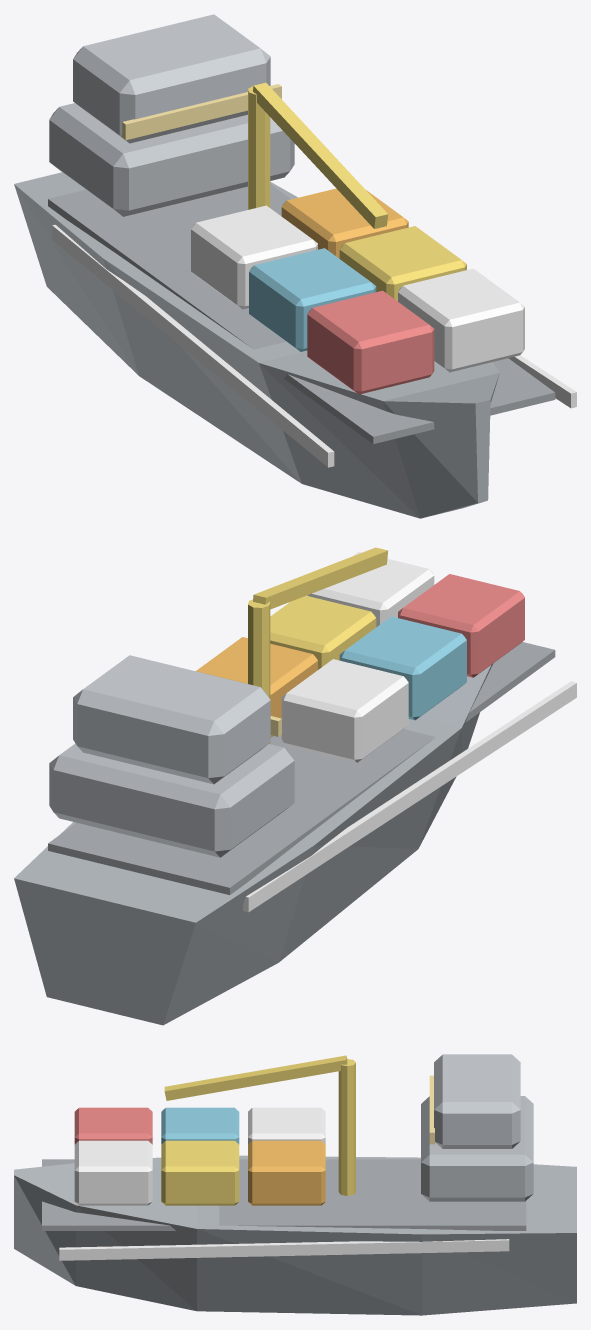
File: logship.glb
3 views of the same model, one above another, from view 1: azimuth 30°, elevation 25°; view 2: azimuth 150°, elevation 25°; view 3: azimuth 270°, elevation 25° (orthographic). The views are drawn at different scales.
Visible parts, largest first — view 1: main; view 2: main; view 3: main.
Part boxes in pixels (<box>): main: <box>14,14,576,518</box>; main: <box>14,547,576,1025</box>; main: <box>14,1054,576,1315</box>.
Bounding box in the file's own units: 0.494 × 0.5923 × 1.3.
